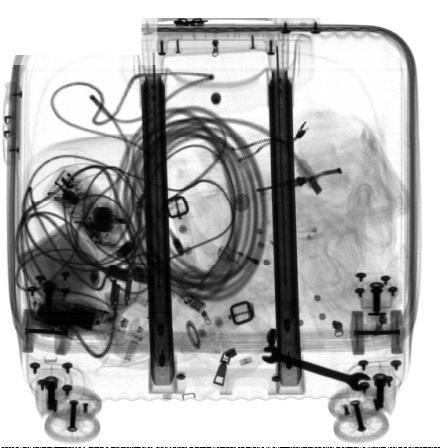Wrench: (261, 346, 371, 392)
